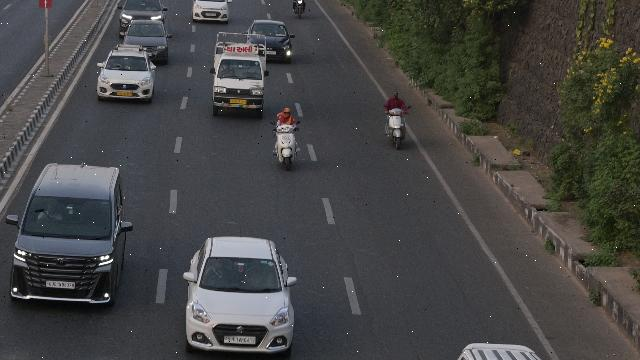Without Helmet: (282, 108, 292, 118), (393, 92, 399, 100)
